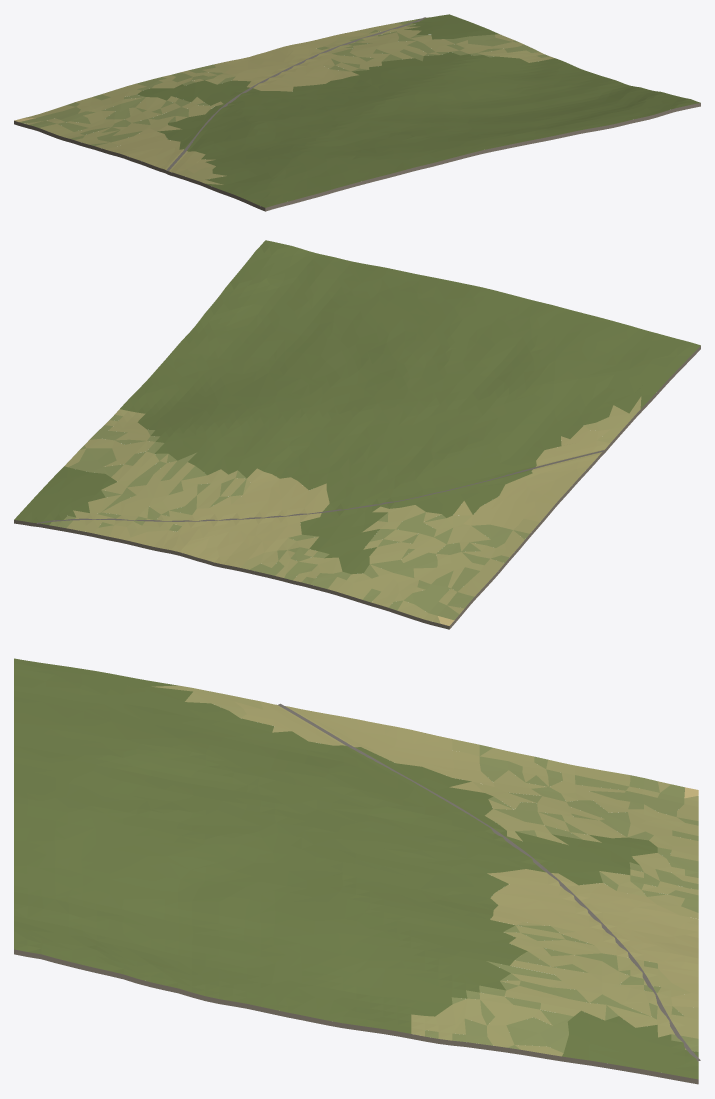
The model's file is parca_+6_+1-uzak.glb.
The picture shows the model from 3 angles, top to bottom: view 1: azimuth 30°, elevation 25°; view 2: azimuth 150°, elevation 25°; view 3: azimuth 270°, elevation 25°; orthographic projection. The views are drawn at different scales.
Visible parts, largest first — view 1: parca_+6_+1_arazi_uzak, parca_+6_+1_yollar_uzak; view 2: parca_+6_+1_arazi_uzak, parca_+6_+1_yollar_uzak; view 3: parca_+6_+1_arazi_uzak, parca_+6_+1_yollar_uzak.
Part boxes in pixels (left/top/right/bottom): parca_+6_+1_arazi_uzak: left=14, top=14, right=700, bottom=211; parca_+6_+1_yollar_uzak: left=166, top=17, right=426, bottom=170; parca_+6_+1_arazi_uzak: left=14, top=240, right=700, bottom=629; parca_+6_+1_yollar_uzak: left=37, top=450, right=604, bottom=523; parca_+6_+1_arazi_uzak: left=14, top=658, right=698, bottom=1084; parca_+6_+1_yollar_uzak: left=278, top=703, right=700, bottom=1061.
Bounding box in the file's own units: 1004 × 230 × 1003.
